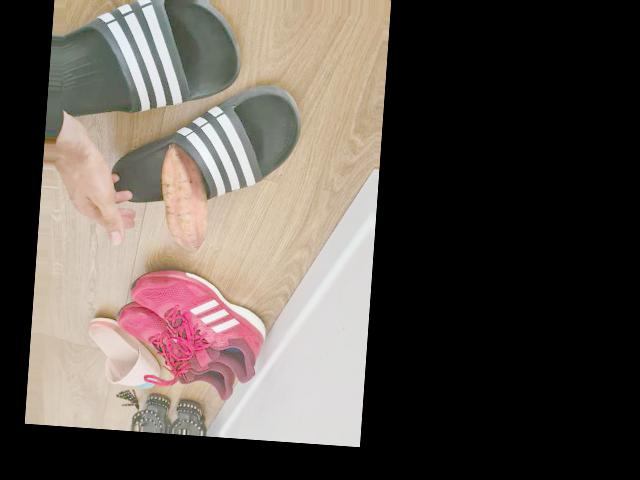sweet_potato: (159, 140, 211, 253)
